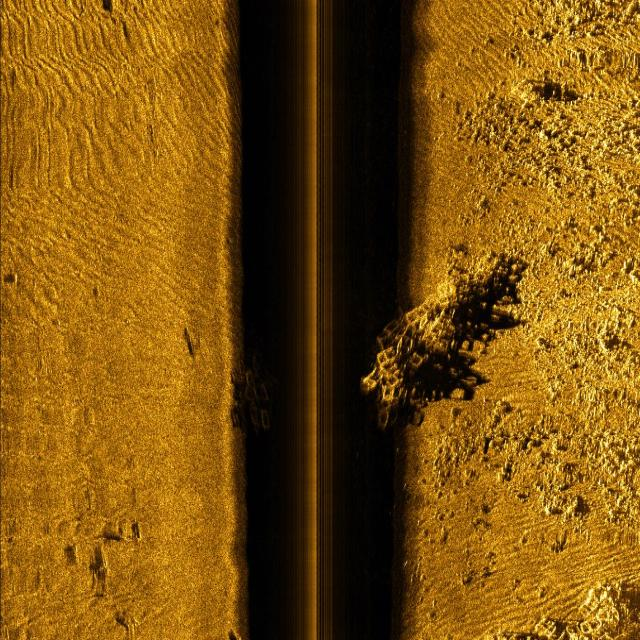artificial reef: (364, 252, 517, 431), (235, 346, 282, 437)
